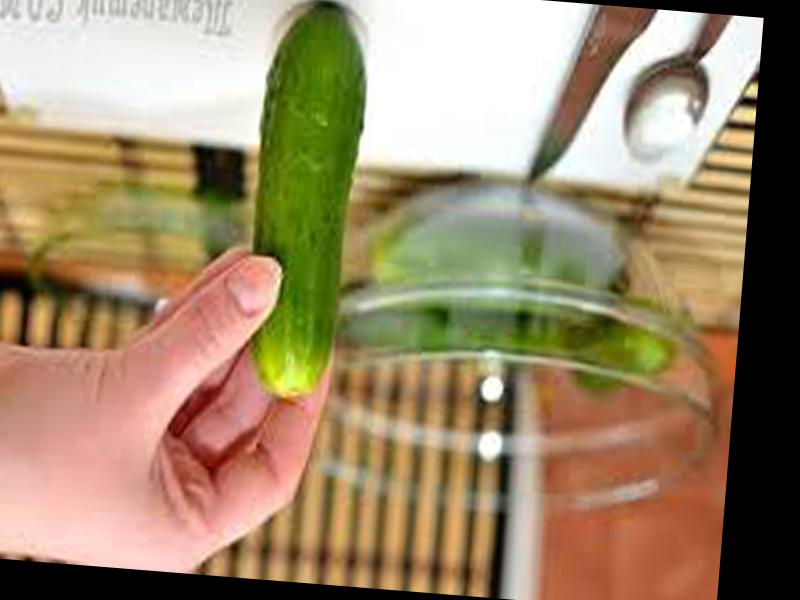Cucumber: (240, 1, 372, 401)
